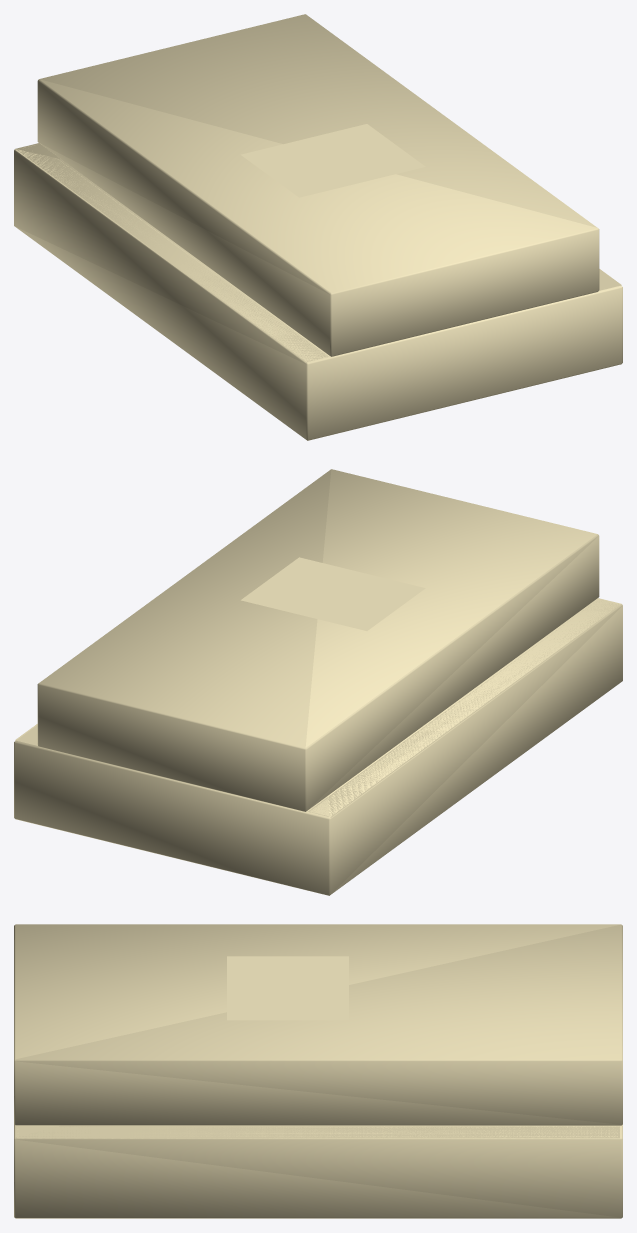
File: carrier_scout_tidemark.glb
The picture shows the model from 3 angles, top to bottom: view 1: azimuth 30°, elevation 25°; view 2: azimuth 150°, elevation 25°; view 3: azimuth 270°, elevation 25°; orthographic projection. The views are drawn at different scales.
Parts seen in each view (by area): view 1: carrier_scout_tidemark; view 2: carrier_scout_tidemark; view 3: carrier_scout_tidemark.
Part boxes in pixels (x1,y1,x2,y2): carrier_scout_tidemark: [14, 14, 622, 440]; carrier_scout_tidemark: [14, 469, 622, 895]; carrier_scout_tidemark: [14, 924, 622, 1218].
Bounding box in the file's own units: 2.8 × 1.23 × 4.5.
